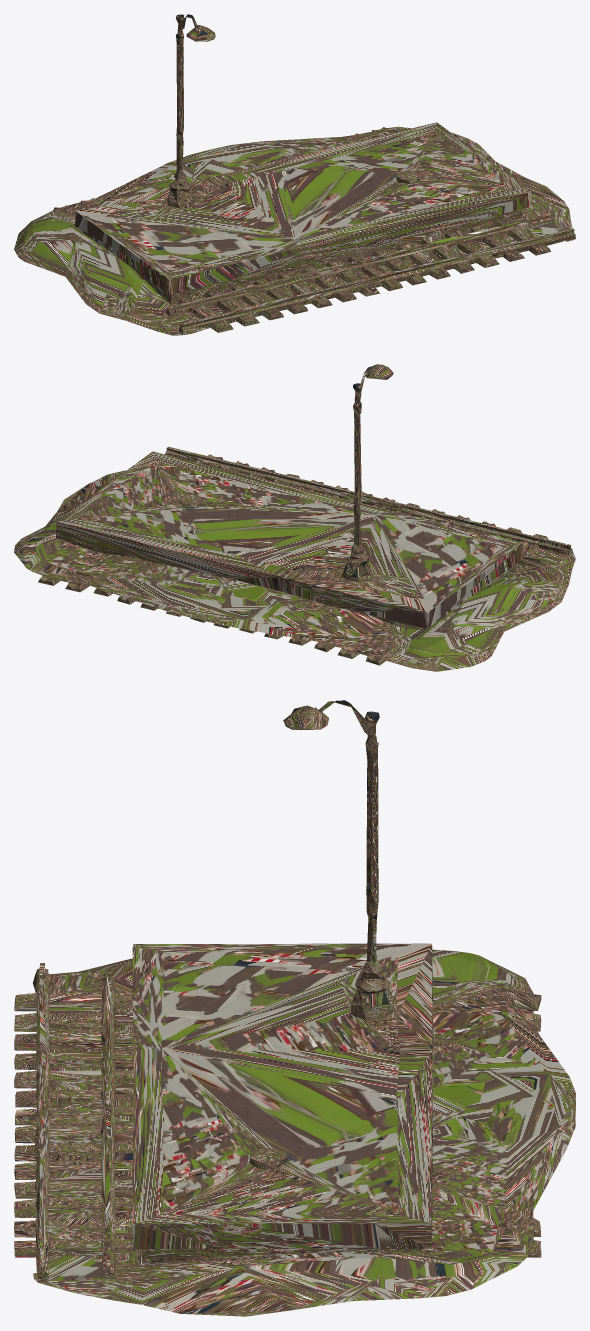
The model's file is station_cap.glb.
The picture shows the model from 3 angles, top to bottom: view 1: azimuth 30°, elevation 25°; view 2: azimuth 150°, elevation 25°; view 3: azimuth 270°, elevation 25°; orthographic projection. The views are drawn at different scales.
Parts seen in each view (by area): view 1: normalize; view 2: normalize; view 3: normalize.
Part boxes in pixels (box(x1,y1,x2,y2)): normalize: box(14, 14, 575, 335); normalize: box(14, 364, 575, 671); normalize: box(14, 700, 575, 1316).
Bounding box in the file's own units: 1 × 0.4668 × 0.6532.
1 material, 1 textured.
